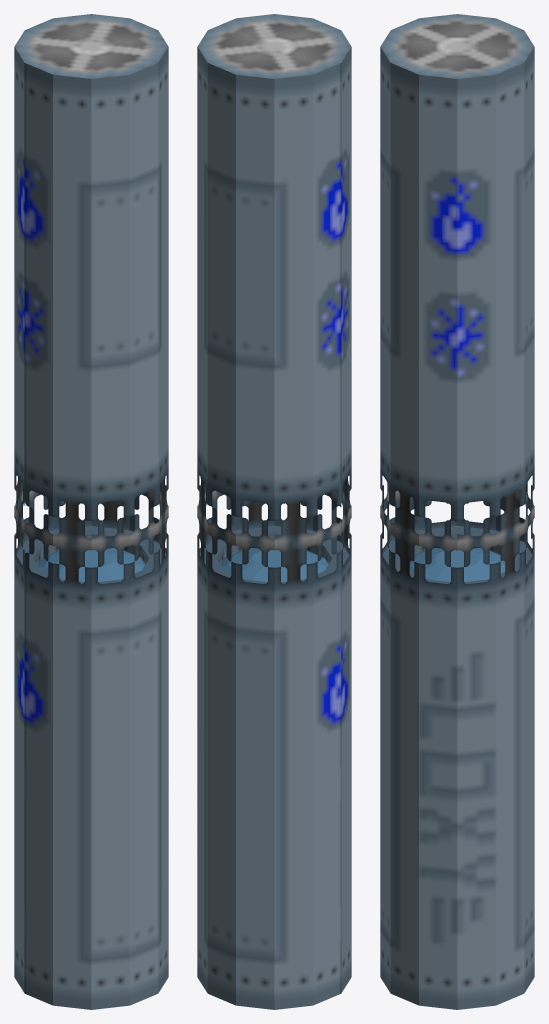
Rendered from mp_f_15_hydrogen.obj.
The picture shows the model from 3 angles, left to right: view 1: azimuth 30°, elevation 25°; view 2: azimuth 150°, elevation 25°; view 3: azimuth 270°, elevation 25°; orthographic projection.
Parts seen in each view (by area): view 1: Cylinder; view 2: Cylinder; view 3: Cylinder.
Boxes of the visible parts, left/top/right/bottom form: Cylinder: left=14, top=14, right=168, bottom=1009; Cylinder: left=197, top=14, right=351, bottom=1009; Cylinder: left=380, top=14, right=534, bottom=1009.
Size of the model in its own units: 1.5 by 10 by 1.5.
